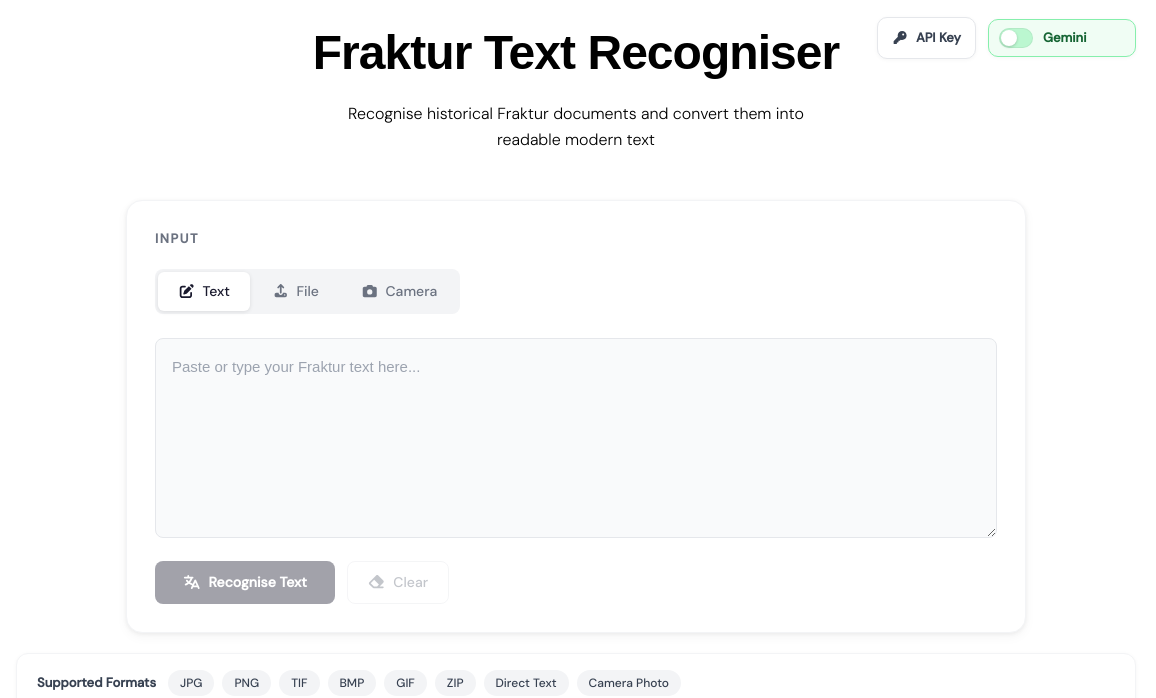
Test: TranslatorPage › switches to Calamari engine on toggle click
The width and height of the screenshot is (1156, 698).
Click the switch named "OCR engine is Gemini".
click(1062, 38)  # box [988,19,1136,57]
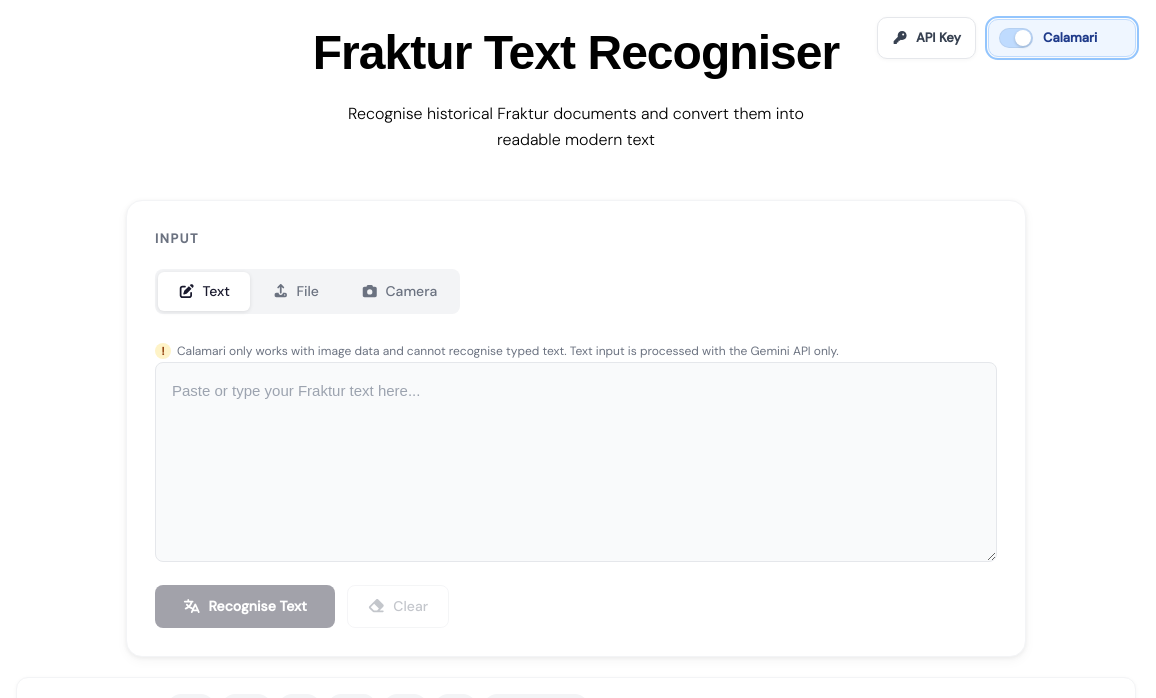
Check: the switch named "OCR engine is Calamari" is shown, box [988,19,1136,57]
